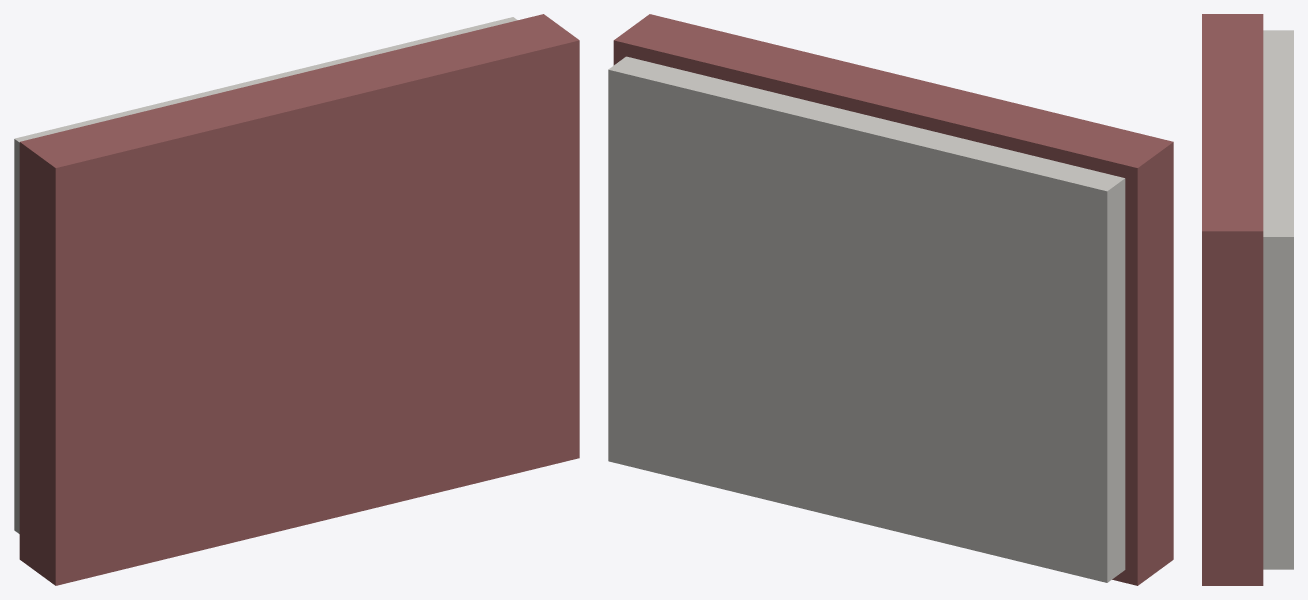
File: 2028-People-held-props-newspaper.glb
3 renders of one model, left to right at view 1: azimuth 30°, elevation 25°; view 2: azimuth 150°, elevation 25°; view 3: azimuth 270°, elevation 25°, orthographic. The views are drawn at different scales.
Parts seen in each view (by area): view 1: People: held props/newspaper; view 2: People: held props/newspaper; view 3: People: held props/newspaper.
Part boxes in pixels (left/top/right/bottom): People: held props/newspaper: left=14, top=14, right=579, bottom=585; People: held props/newspaper: left=608, top=14, right=1173, bottom=585; People: held props/newspaper: left=1202, top=14, right=1293, bottom=585.
Bounding box in the file's own units: 0.21 × 0.16 × 0.0375.
